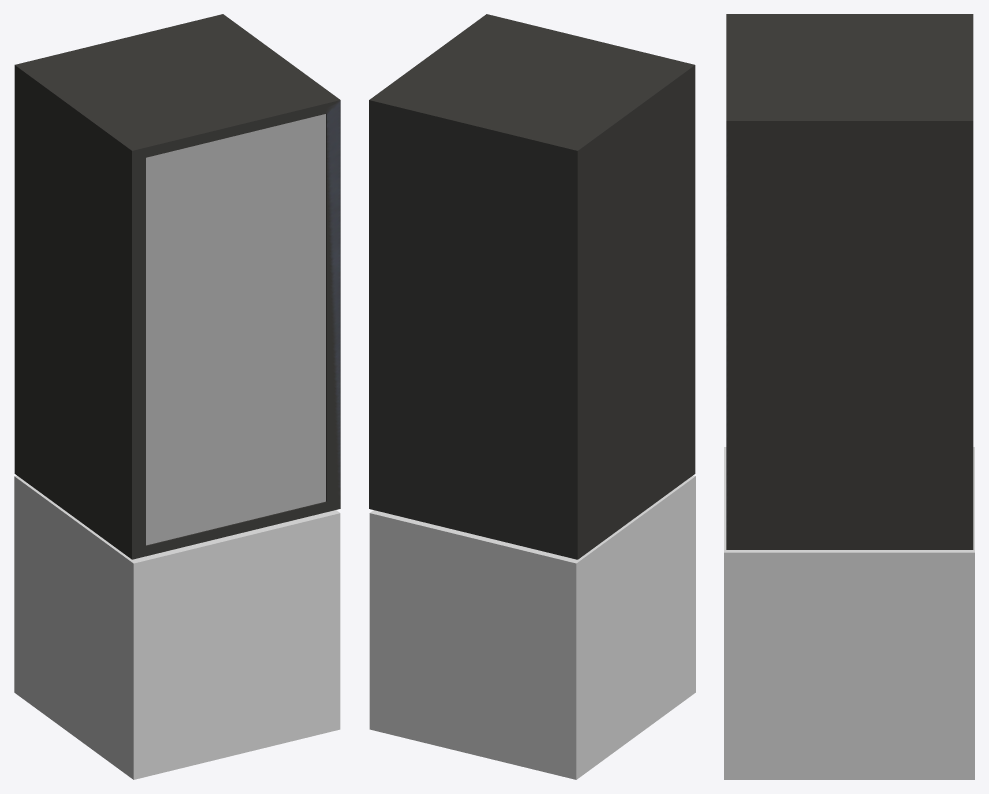
Rendered from Full_server.fbx.
3 views of the same model, side by side, from view 1: azimuth 30°, elevation 25°; view 2: azimuth 150°, elevation 25°; view 3: azimuth 270°, elevation 25° (orthographic). The views are drawn at different scales.
Parts seen in each view (by area): view 1: Box001, Box845, Box002; view 2: Box001, Box845; view 3: Box001, Box845.
Boxes of the visible parts, x1=… form: Box001: x1=14, y1=14, x2=340, y2=559; Box845: x1=14, y1=475, x2=340, y2=779; Box002: x1=146, y1=114, x2=325, y2=545; Box001: x1=369, y1=14, x2=695, y2=559; Box845: x1=369, y1=475, x2=695, y2=779; Box001: x1=726, y1=14, x2=973, y2=549; Box845: x1=724, y1=447, x2=974, y2=779.
Bounding box in the file's own units: 39.84 × 115 × 39.5.
